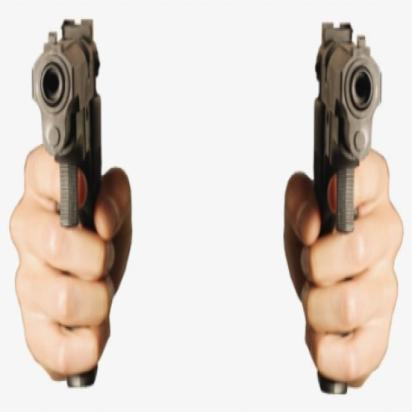Gun: (26, 13, 114, 396), (310, 6, 390, 407)
